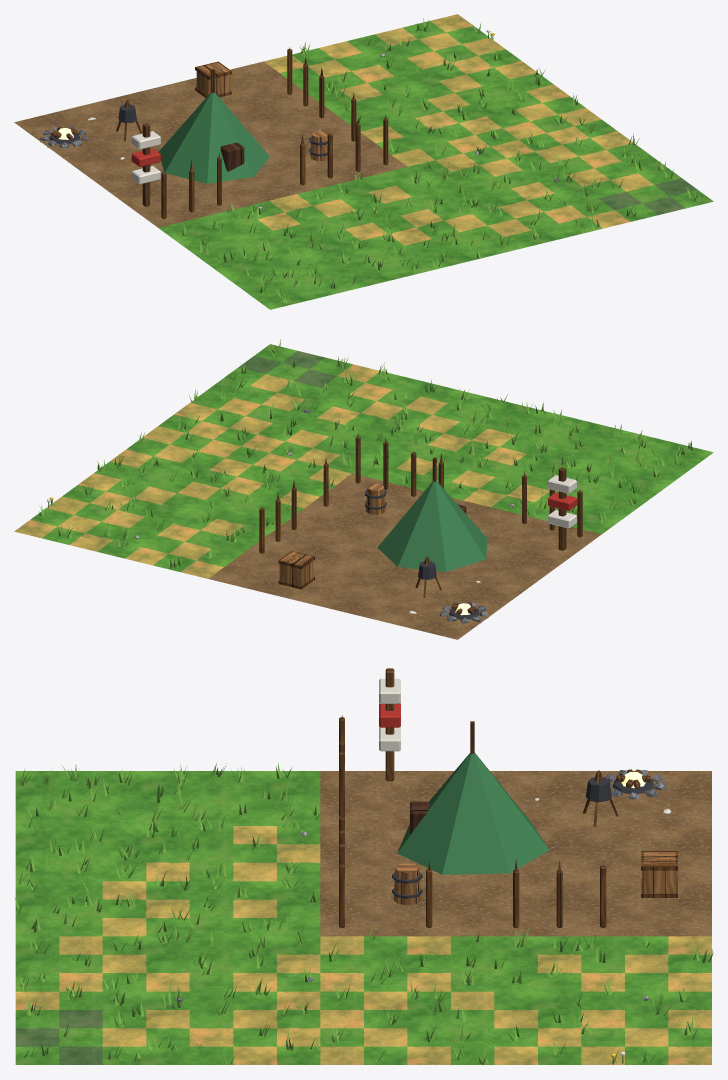
Rendered from chunk_7_8.glb.
3 renders of one model, top to bottom at view 1: azimuth 30°, elevation 25°; view 2: azimuth 150°, elevation 25°; view 3: azimuth 270°, elevation 25°, orthographic. The views are drawn at different scales.
Visible parts, largest first — view 1: chunk_7_8; view 2: chunk_7_8; view 3: chunk_7_8.
Part boxes in pixels (x1,y1,x2,y2): chunk_7_8: (14,14,713,309); chunk_7_8: (14,339,713,639); chunk_7_8: (14,668,713,1064).
Size of the model in its own units: 16.11 by 3.25 by 16.09.
20 materials, 12 textured.
